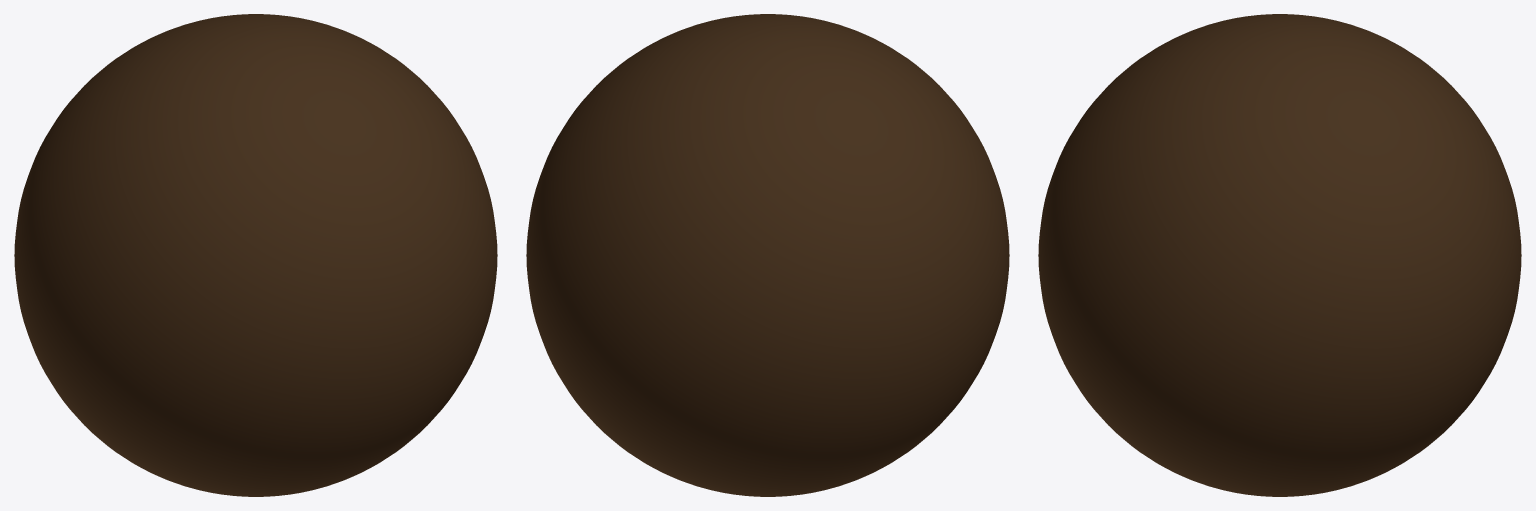
The model's file is particle2.gltf.
3 views of the same model, side by side, from view 1: azimuth 30°, elevation 25°; view 2: azimuth 150°, elevation 25°; view 3: azimuth 270°, elevation 25° (orthographic).
Parts seen in each view (by area): view 1: Kugel; view 2: Kugel; view 3: Kugel.
Part boxes in pixels (bbox=[...]): Kugel: bbox=[14, 14, 497, 496]; Kugel: bbox=[526, 14, 1009, 496]; Kugel: bbox=[1038, 14, 1521, 496].
Size of the model in its own units: 0.2 by 0.2 by 0.2.
